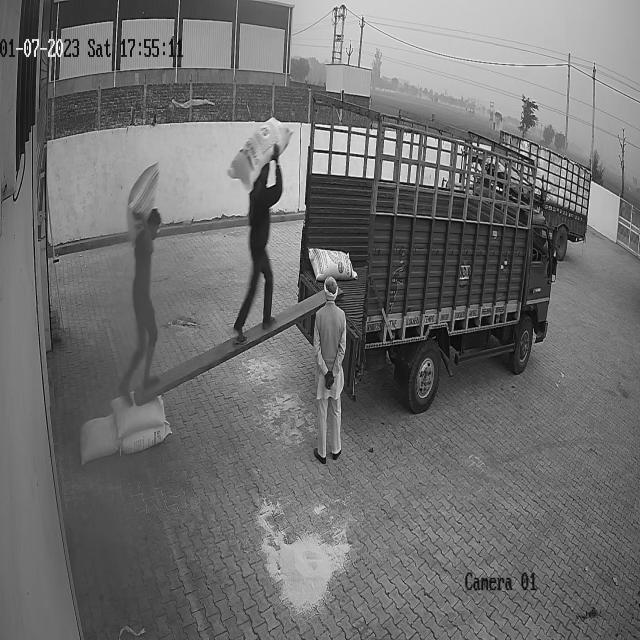sack: (228, 118, 292, 192), (126, 162, 158, 242), (111, 395, 165, 436), (80, 414, 118, 464), (307, 246, 357, 282), (120, 426, 170, 454)
